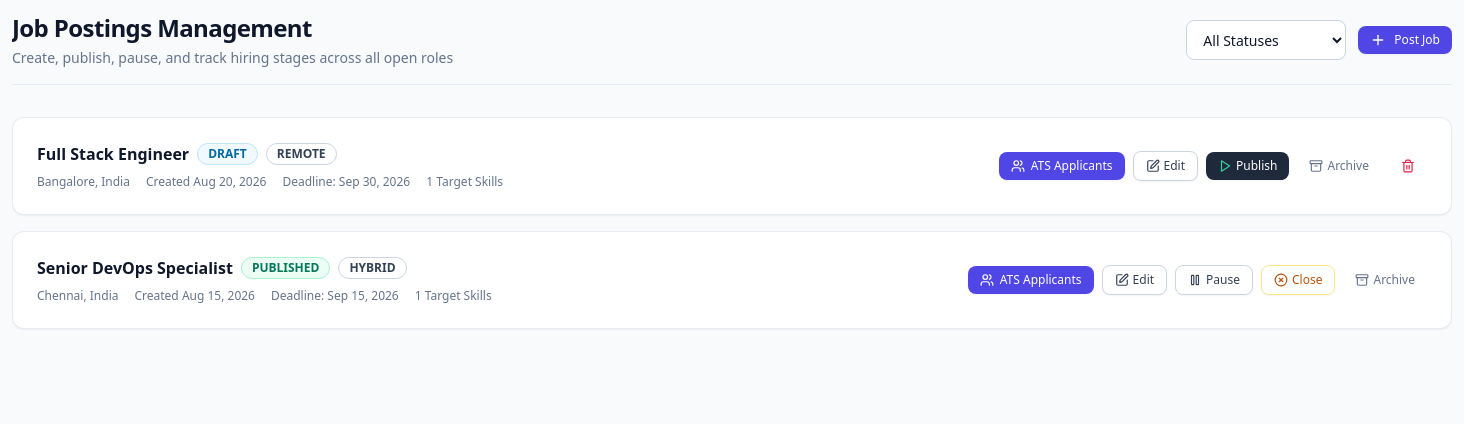
Test: Recruiter Job Management Lifecycle › publishes a DRAFT job and immediately updates status to PUBLISHED
Expected: the text "Full Stack Engineer" is shown, [37,142,189,166]
Expected: the text "DRAFT" is shown, [197,143,258,165]
// Find and click Publish button for the draft job
Click the button "Publish".
click(1248, 166)  # box [1206,152,1289,180]
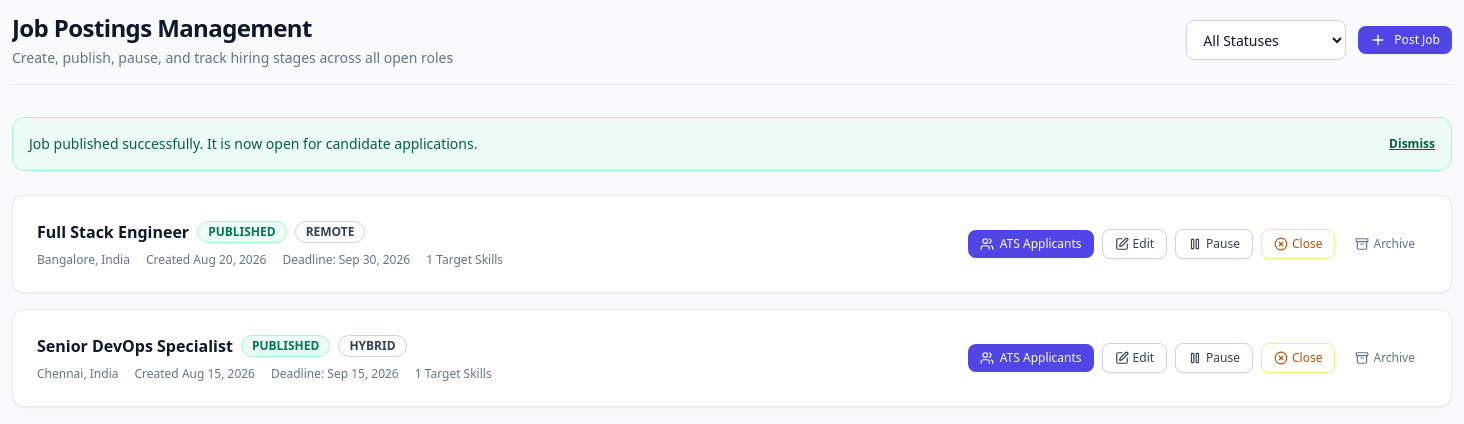
Expected: the text "PUBLISHED" is shown 2 times, [197,221,287,243]; [241,335,330,357]
Result: the text "Job published successfully. It is now open for candidate applications." is shown at [29,134,477,154]
